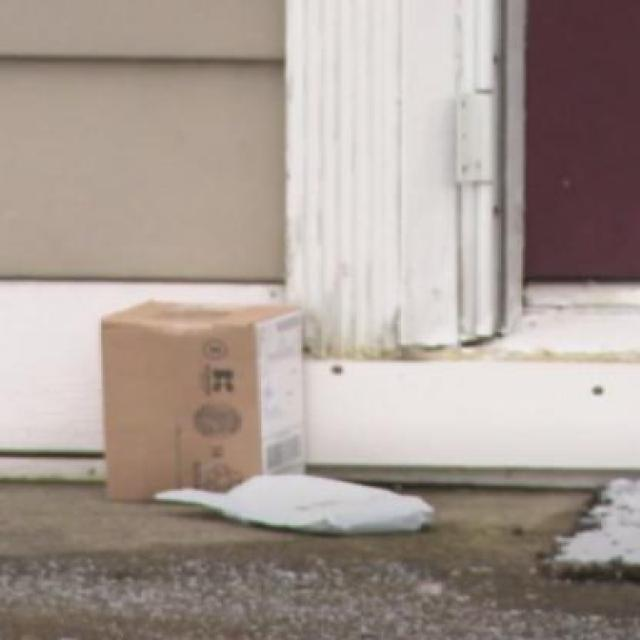box: (87, 291, 318, 544)
